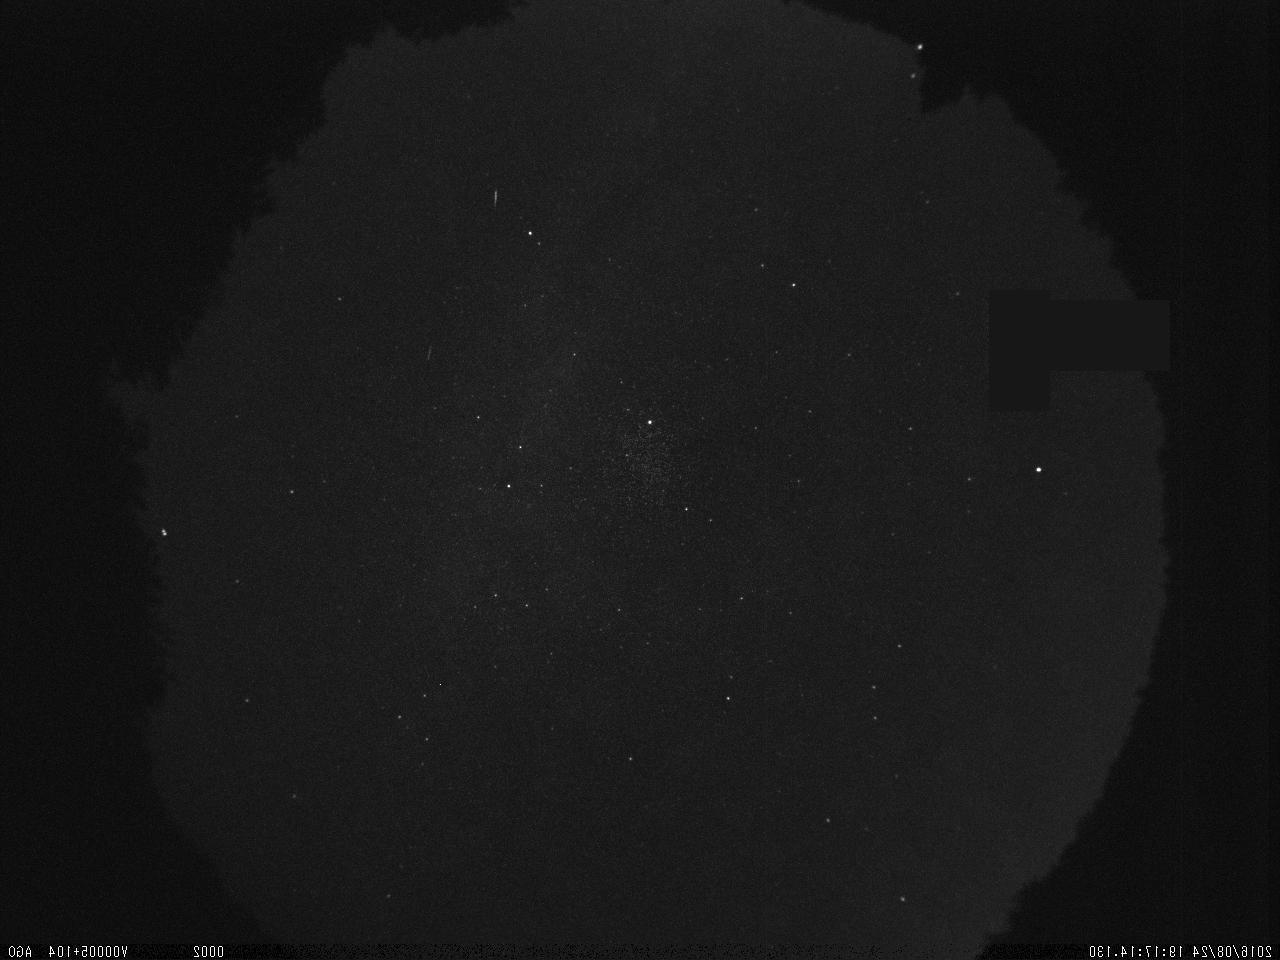meteor: (484, 183, 506, 214)
